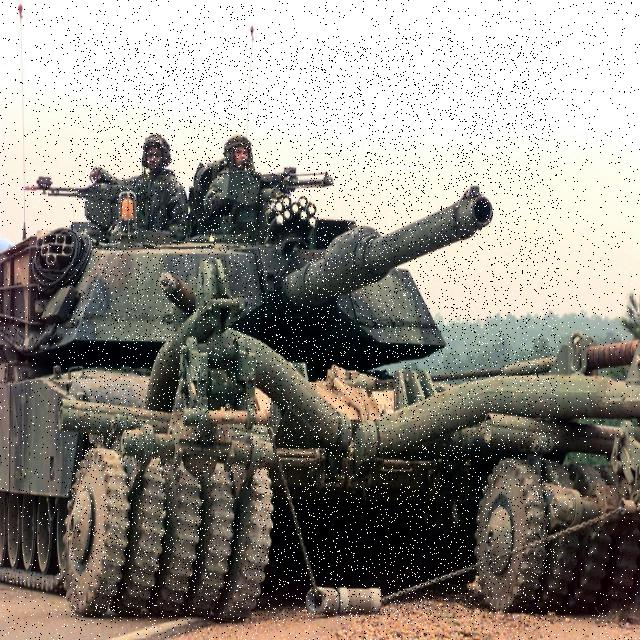MIL_MBT: (70, 36, 559, 621)
